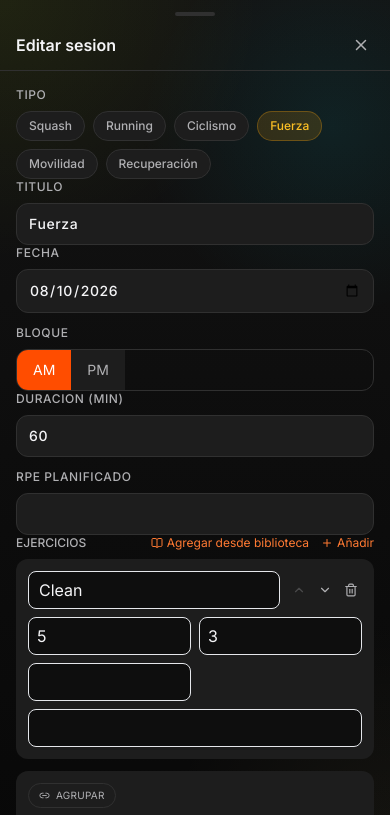
Test case: SessionForm — grupos › agrupar con el anterior propaga los sets del lider y expone el estado
Click the button with aria-label "Agrupar ejercicio 2 con el anterior" at (72, 796), box x1=28 y1=783 x2=116 y2=808
(page scrolled)
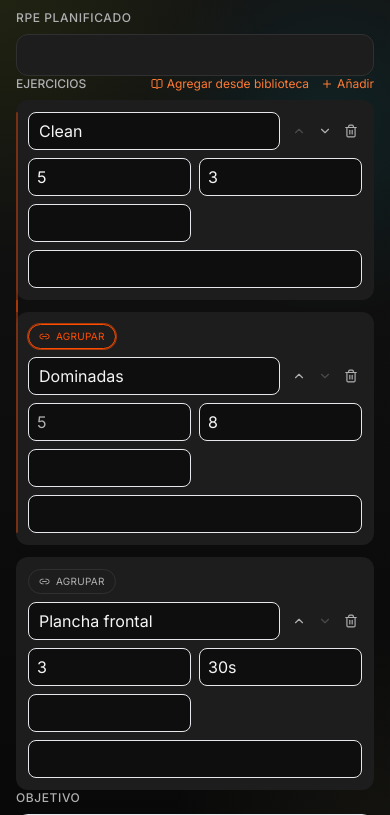
Check: the number field named "Series 2" holds "5", box x1=28 y1=403 x2=191 y2=441
